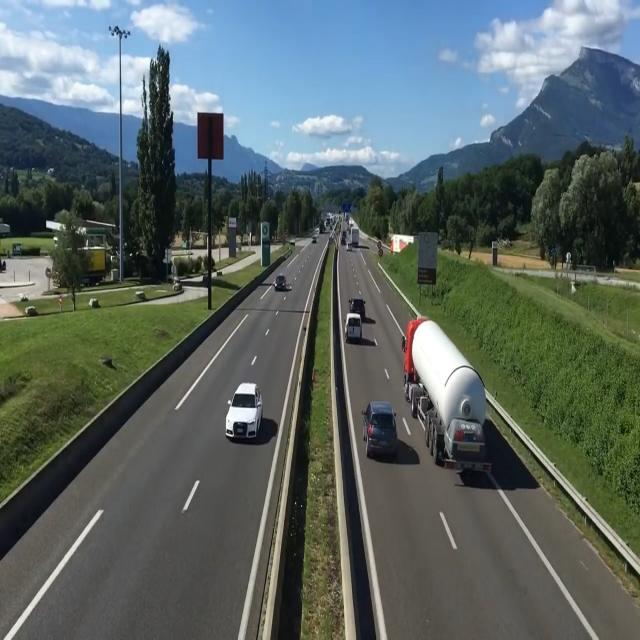car: (225, 379, 265, 447), (362, 396, 399, 463), (343, 313, 365, 348), (272, 271, 288, 295)
truck: (398, 315, 464, 406), (350, 227, 360, 250)
